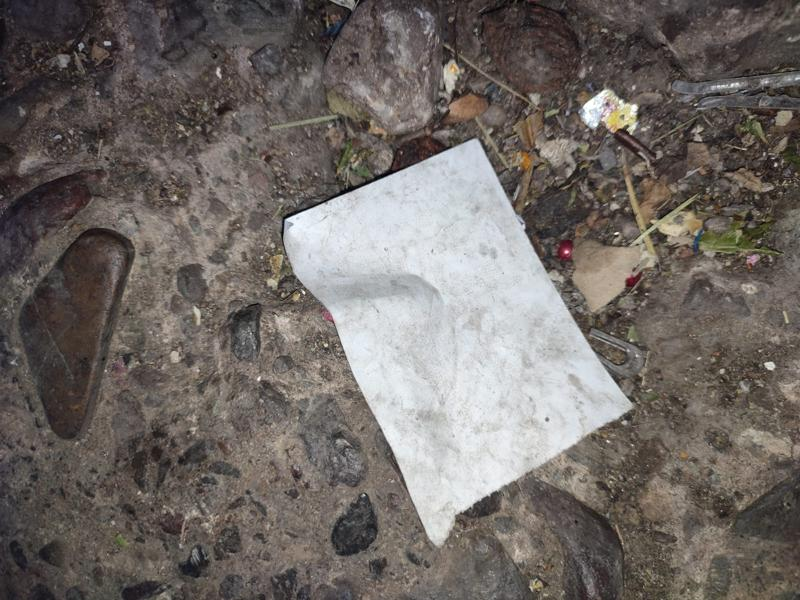papel: (280, 139, 633, 549)
